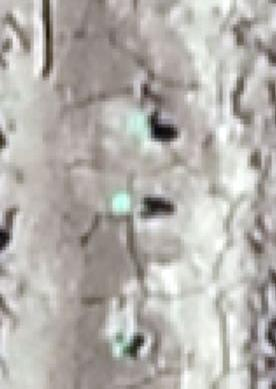cotton: (129, 115, 149, 139), (108, 338, 129, 358), (108, 194, 128, 214)
